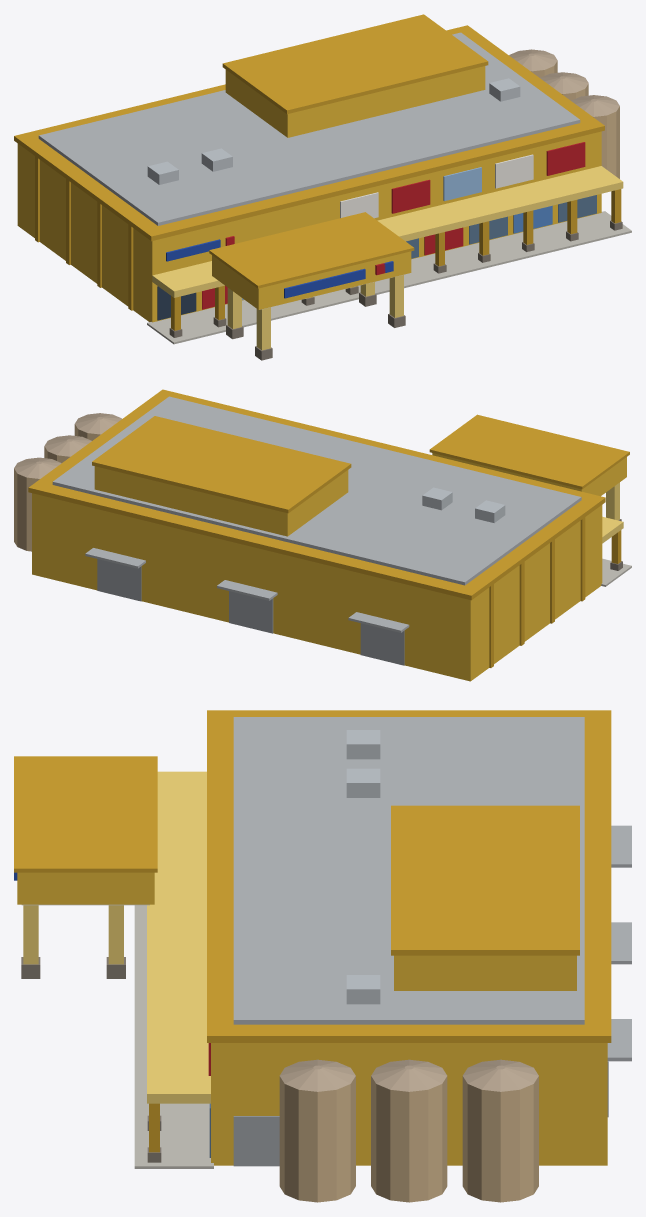
The model's file is LM_WalterMart.glb.
3 views of the same model, one above another, from view 1: azimuth 30°, elevation 25°; view 2: azimuth 150°, elevation 25°; view 3: azimuth 270°, elevation 25° (orthographic). The views are drawn at different scales.
Parts seen in each view (by area): view 1: LM_WalterMart; view 2: LM_WalterMart; view 3: LM_WalterMart.
Boxes of the visible parts, bbox=[...] form: LM_WalterMart: bbox=[14, 14, 631, 360]; LM_WalterMart: bbox=[14, 389, 631, 681]; LM_WalterMart: bbox=[14, 710, 631, 1202].
Bounding box in the file's own units: 56.2 × 12.9 × 40.51.
